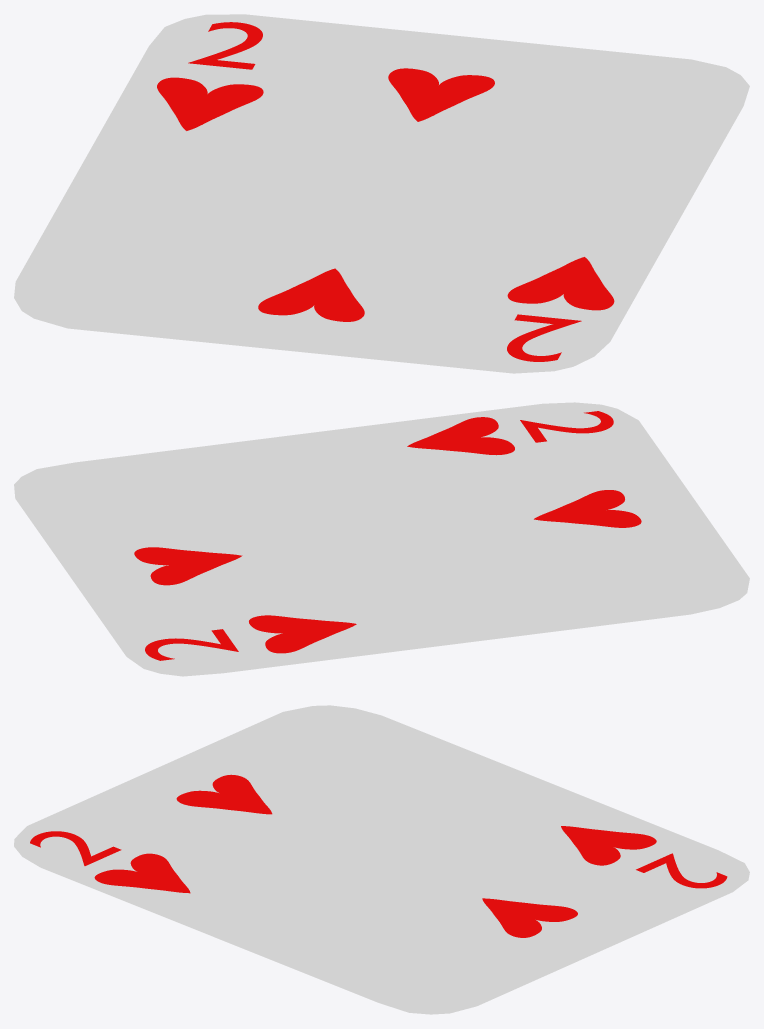
The picture shows the model from 3 angles, top to bottom: view 1: azimuth 30°, elevation 25°; view 2: azimuth 150°, elevation 25°; view 3: azimuth 270°, elevation 25°; orthographic projection. The views are drawn at different scales.
Visible parts, largest first — view 1: 2ofHearts, Plane002_Red, Plane003_Red, Plane004_Red, Plane005_Red, Font003_Bla_Blac002, Font004_Bla_Blac002; view 2: 2ofHearts, Plane002_Red, Plane004_Red, Plane003_Red, Plane005_Red, Font004_Bla_Blac002, Font003_Bla_Blac002; view 3: 2ofHearts, Plane003_Red, Plane002_Red, Plane004_Red, Plane005_Red, Font003_Bla_Blac002, Font004_Bla_Blac002.
Part boxes in pixels (bbox=[...]): 2ofHearts: bbox=[14, 14, 749, 373]; Plane002_Red: bbox=[157, 77, 263, 130]; Plane003_Red: bbox=[507, 257, 614, 310]; Plane004_Red: bbox=[388, 68, 494, 121]; Plane005_Red: bbox=[258, 268, 364, 321]; Font003_Bla_Blac002: bbox=[188, 22, 262, 69]; Font004_Bla_Blac002: bbox=[507, 314, 581, 361]; 2ofHearts: bbox=[14, 402, 749, 676]; Plane002_Red: bbox=[249, 615, 356, 653]; Plane004_Red: bbox=[134, 547, 242, 585]; Plane003_Red: bbox=[407, 417, 514, 455]; Plane005_Red: bbox=[534, 490, 641, 527]; Font004_Bla_Blac002: bbox=[520, 411, 613, 442]; Font003_Bla_Blac002: bbox=[145, 629, 238, 660]; 2ofHearts: bbox=[14, 705, 749, 1014]; Plane003_Red: bbox=[94, 853, 190, 893]; Plane002_Red: bbox=[561, 826, 656, 865]; Plane004_Red: bbox=[482, 898, 577, 937]; Plane005_Red: bbox=[176, 774, 272, 814]; Font003_Bla_Blac002: bbox=[636, 853, 727, 888]; Font004_Bla_Blac002: bbox=[30, 831, 121, 865].
Bounding box in the file's own units: 0.59 × 0.00114 × 0.5935.
